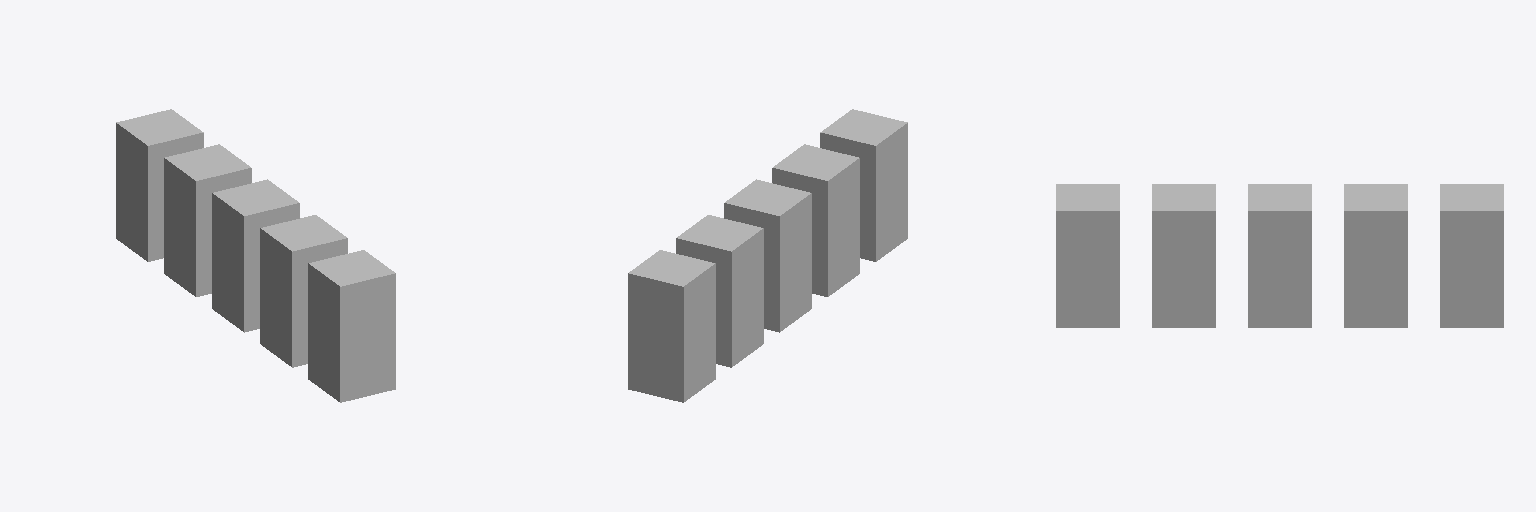
The model's file is 1D-IconNominal.obj.
3 renders of one model, left to right at view 1: azimuth 30°, elevation 25°; view 2: azimuth 150°, elevation 25°; view 3: azimuth 270°, elevation 25°, orthographic.
Parts seen in each view (by area): view 1: Cube.004_Cube.022; view 2: Cube.004_Cube.022; view 3: Cube.004_Cube.022.
Part boxes in pixels (bbox=[...]): Cube.004_Cube.022: bbox=[116, 109, 395, 402]; Cube.004_Cube.022: bbox=[628, 109, 907, 402]; Cube.004_Cube.022: bbox=[1056, 184, 1503, 327].
Bounding box in the file's own units: 0.02 × 0.04 × 0.14.